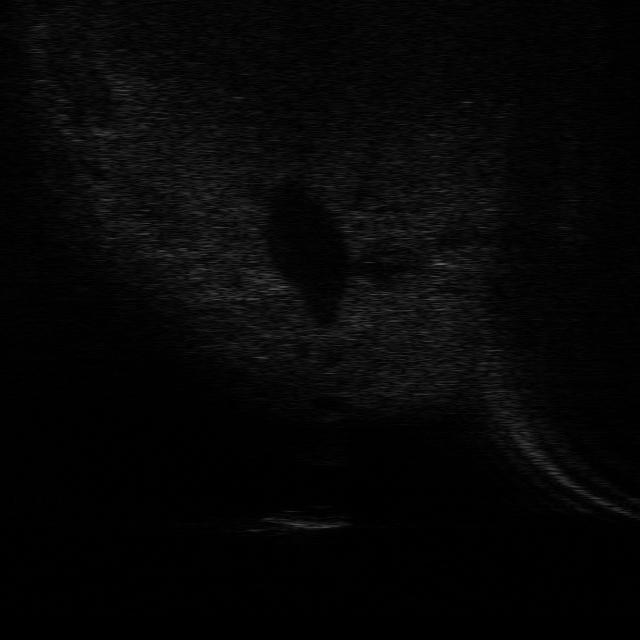cube: (252, 508, 352, 531)
